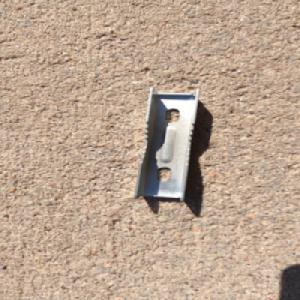ClampPart: (130, 86, 202, 204)
